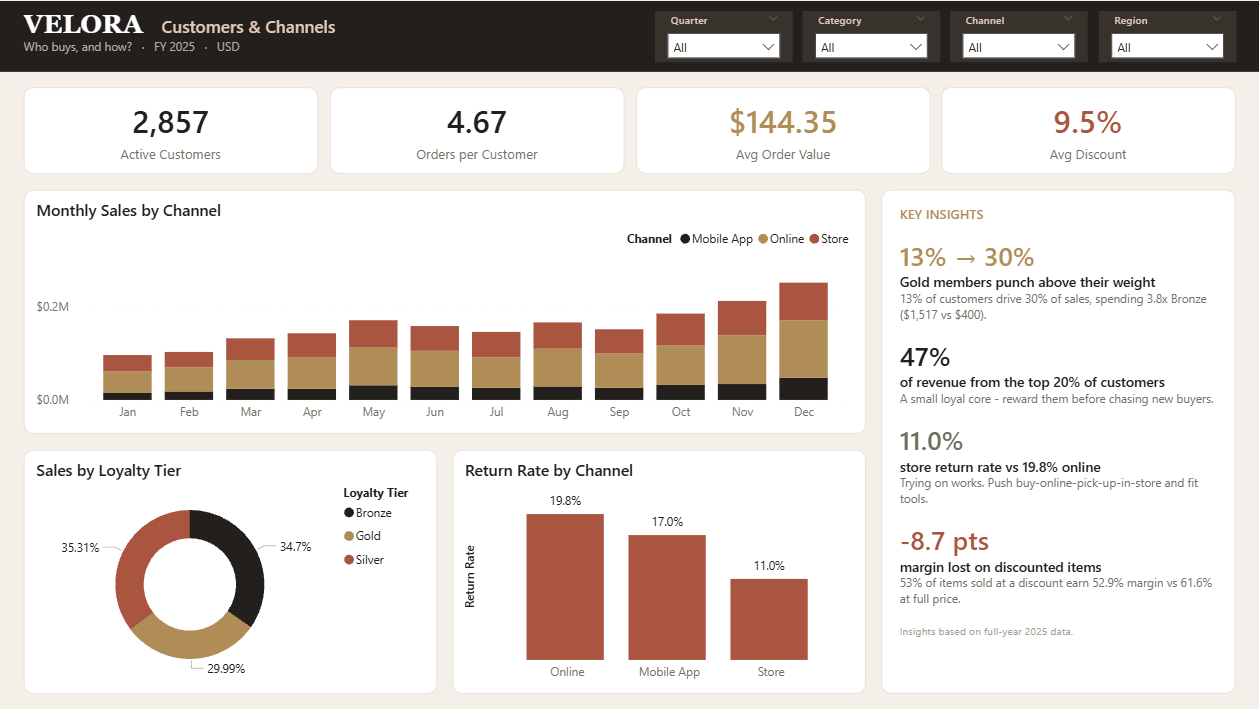

This screenshot's page, from the dashboard's own definition file:
{"tool":"powerbi","page":{"name":"Customers & Channels","canvas":[1280,720],"ordinal":2},"visuals":[{"type":"textbox","box":[0,0,1280,72],"z":1000},{"type":"slicer","fields":{"Values":["Calendar.Quarter"]},"box":[666,10,140,52],"z":2000},{"type":"slicer","fields":{"Values":["products.category"]},"box":[816,10,140,52],"z":3000},{"type":"slicer","fields":{"Values":["sales.channel"]},"box":[966,10,140,52],"z":4000},{"type":"slicer","fields":{"Values":["customers.region"]},"box":[1116,10,140,52],"z":5000},{"type":"card","fields":{"Values":["sales.Active Customers"]},"box":[24,88,299,88],"z":6000},{"type":"card","fields":{"Values":["sales.Orders per Customer"]},"box":[335,88,299,88],"z":7000},{"type":"card","fields":{"Values":["sales.Avg Order Value"]},"box":[646,88,299,88],"z":8000},{"type":"card","fields":{"Values":["sales.Avg Discount %"]},"box":[957,88,299,88],"z":9000},{"type":"columnChart","title":"Monthly Sales by Channel","fields":{"Category":["Calendar.Month"],"Series":["sales.channel"],"Y":["sales.Total Sales"]},"box":[24,192,856,248],"z":10000},{"type":"donutChart","title":"Sales by Loyalty Tier","fields":{"Category":["customers.loyalty_tier"],"Y":["sales.Total Sales"]},"box":[24,456,420,248],"z":11000},{"type":"clusteredColumnChart","title":"Return Rate by Channel","fields":{"Category":["sales.channel"],"Y":["sales.Return Rate %"]},"box":[460,456,420,248],"z":12000},{"type":"textbox","box":[896,192,360,512],"z":13000}]}

Visuals, with their boxes in screenshot pixels (x1, y1, x2, y2), scaled from the page's 1280x720 canvas onto the 1259x709 screenshot:
textbox: [0, 0, 1258, 71]
slicer - Calendar.Quarter: [655, 10, 793, 61]
slicer - products.category: [803, 10, 940, 61]
slicer - sales.channel: [950, 10, 1088, 61]
slicer - customers.region: [1098, 10, 1235, 61]
card - sales.Active Customers: [24, 87, 318, 173]
card - sales.Orders per Customer: [330, 87, 624, 173]
card - sales.Avg Order Value: [635, 87, 929, 173]
card - sales.Avg Discount %: [941, 87, 1235, 173]
"Monthly Sales by Channel" columnChart: [24, 189, 866, 433]
"Sales by Loyalty Tier" donutChart: [24, 449, 437, 693]
"Return Rate by Channel" clusteredColumnChart: [452, 449, 866, 693]
textbox: [881, 189, 1235, 693]
